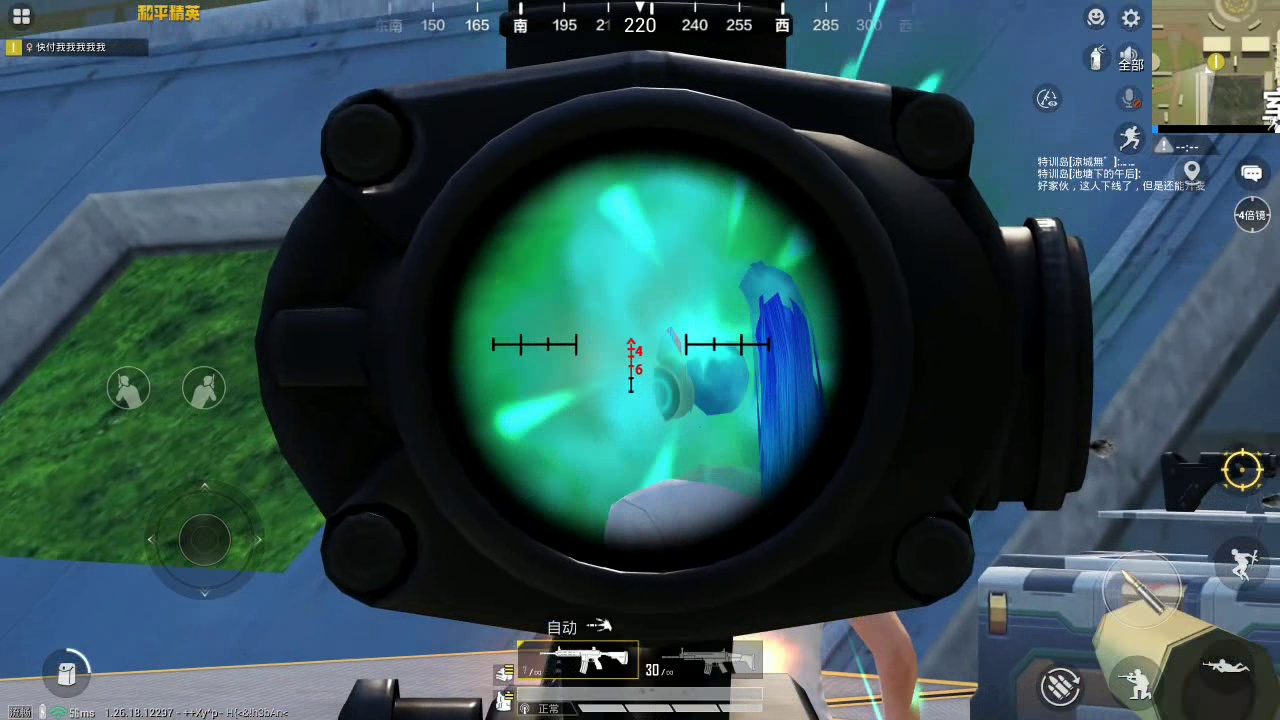enemy: (603, 267, 829, 544)
